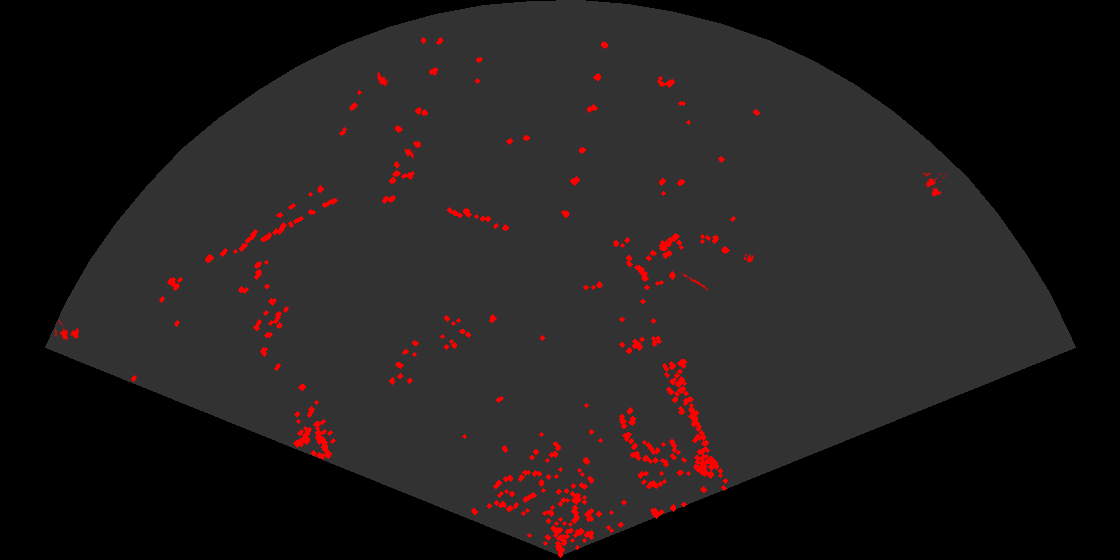AUV: (375, 70, 389, 88), (403, 145, 416, 160)
ball: (742, 252, 755, 264)
cage: (921, 173, 948, 198), (55, 320, 81, 343)
chain: (681, 271, 711, 291)
